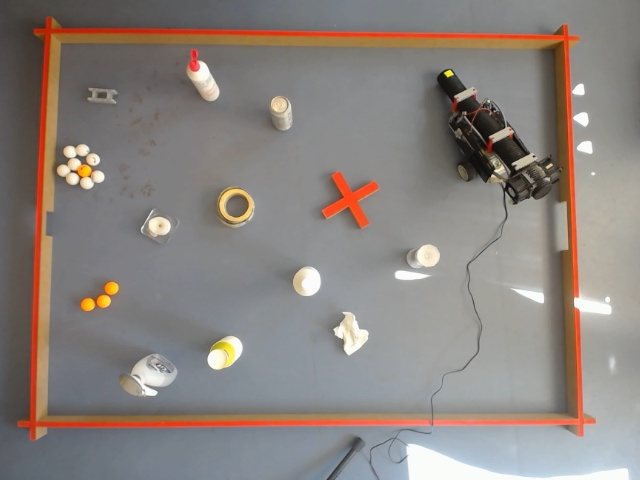orange: (269, 95, 292, 130), (95, 291, 116, 311), (92, 293, 112, 311), (78, 296, 97, 314), (103, 280, 120, 296)
robot: (435, 70, 564, 211)
white: (119, 352, 179, 397), (206, 336, 244, 371), (292, 266, 323, 298), (141, 214, 174, 244), (269, 95, 293, 131), (410, 244, 441, 269), (591, 469, 632, 480), (602, 467, 630, 480), (79, 174, 94, 191), (58, 164, 72, 181), (75, 143, 90, 158), (65, 171, 79, 187), (92, 168, 106, 184), (87, 151, 101, 167), (69, 154, 81, 172), (55, 163, 69, 178), (82, 173, 94, 190), (62, 144, 75, 159), (73, 144, 85, 159)
